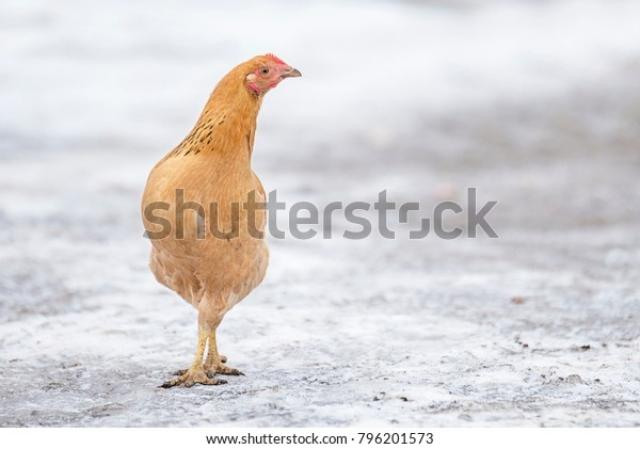Chicken: (141, 54, 304, 387)
